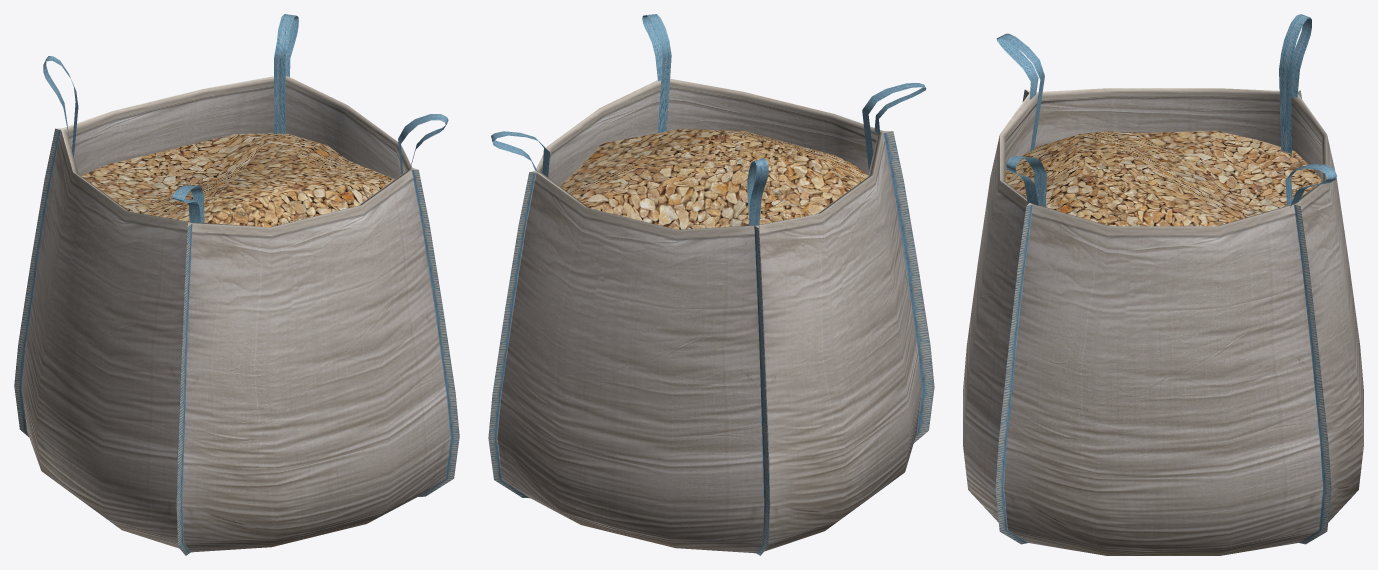
The model's file is Bulk_Sack_01.fbx.
The picture shows the model from 3 angles, left to right: view 1: azimuth 30°, elevation 25°; view 2: azimuth 150°, elevation 25°; view 3: azimuth 270°, elevation 25°; orthographic projection. The views are drawn at different scales.
Parts seen in each view (by area): view 1: Bulk_Sack_01_LOD0; view 2: Bulk_Sack_01_LOD0; view 3: Bulk_Sack_01_LOD0.
Boxes of the visible parts, bbox=[...] form: Bulk_Sack_01_LOD0: bbox=[14, 14, 459, 555]; Bulk_Sack_01_LOD0: bbox=[488, 14, 934, 555]; Bulk_Sack_01_LOD0: bbox=[963, 14, 1363, 555].
Size of what is drawn, in the model's own units: 86.68 by 97.51 by 86.68.
